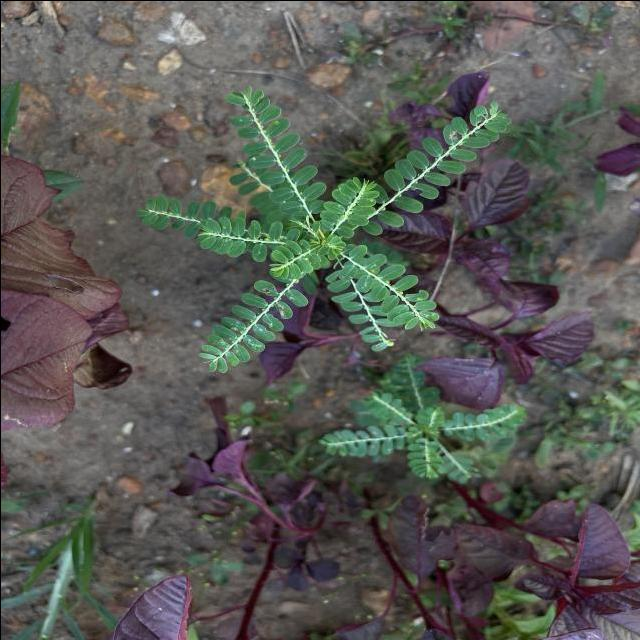Phyllanthus niruri: (354, 100, 512, 237), (224, 82, 328, 218), (198, 276, 308, 374), (336, 242, 441, 332), (193, 215, 285, 262), (316, 175, 380, 238), (268, 238, 322, 280)
